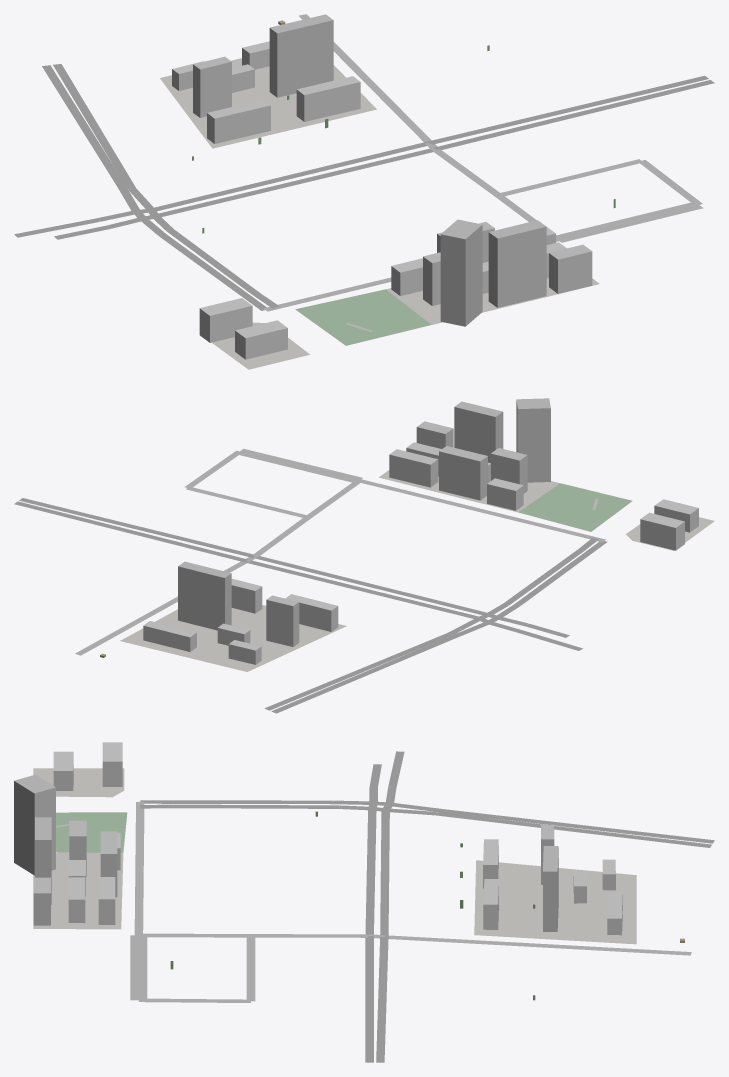
3 views of the same model, one above another, from view 1: azimuth 30°, elevation 25°; view 2: azimuth 150°, elevation 25°; view 3: azimuth 270°, elevation 25° (orthographic). The views are drawn at different scales.
Size of the model in its own units: 611 by 75.49 by 581.
